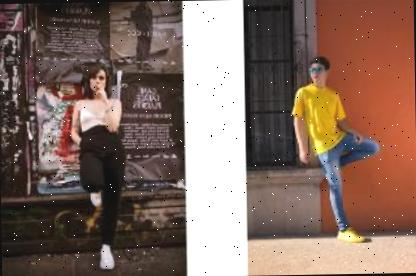person: (286, 48, 384, 251), (66, 57, 130, 274)
